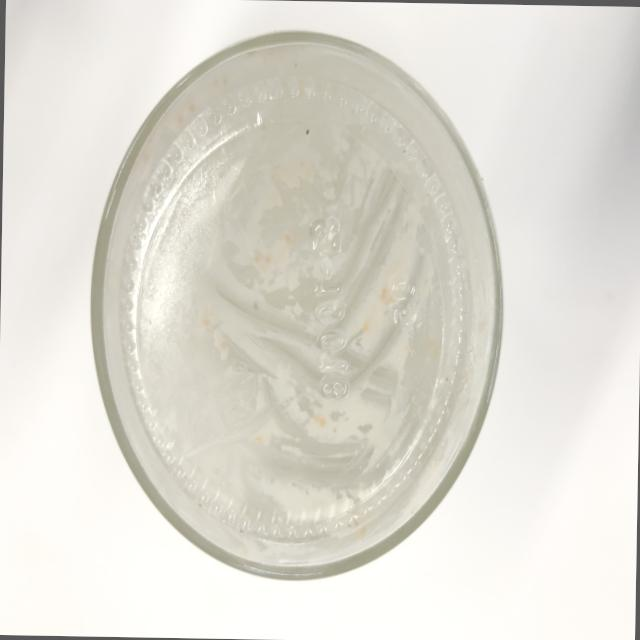Glass: (73, 11, 519, 607)
